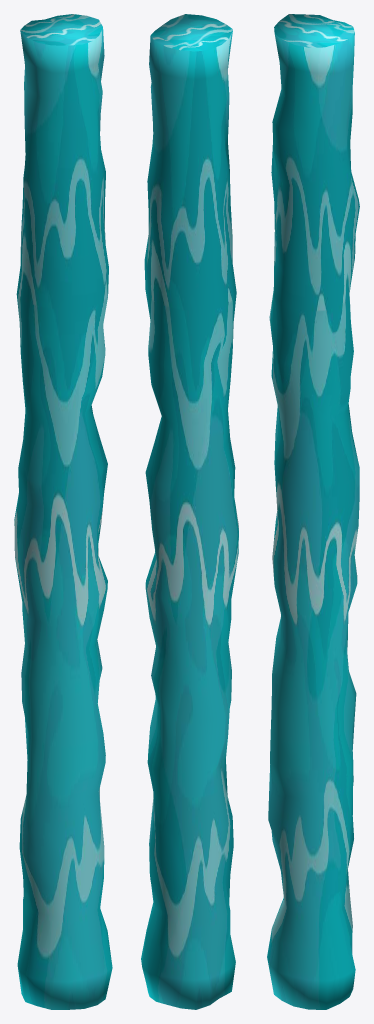
The model's file is waterFlow.glb.
3 renders of one model, left to right at view 1: azimuth 30°, elevation 25°; view 2: azimuth 210°, elevation 25°; view 3: azimuth 330°, elevation 25°, orthographic.
Parts seen in each view (by area): view 1: Water_running_new_FINAL; view 2: Water_running_new_FINAL; view 3: Water_running_new_FINAL.
Part boxes in pixels (x1,y1,x2,y2): Water_running_new_FINAL: (14, 14, 112, 1009); Water_running_new_FINAL: (141, 14, 238, 1009); Water_running_new_FINAL: (267, 14, 359, 1009).
Size of the model in its own units: 0.0235 by 0.2612 by 0.0227.
Materials: 1 (1 with a texture image).
